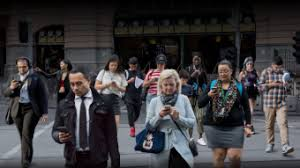no-mask: (68, 66, 91, 99), (157, 72, 179, 98), (216, 60, 235, 84), (12, 57, 31, 77), (104, 54, 119, 74), (269, 57, 284, 75), (190, 53, 204, 67), (59, 58, 71, 73), (155, 57, 167, 71), (243, 56, 253, 71), (126, 60, 139, 71)
